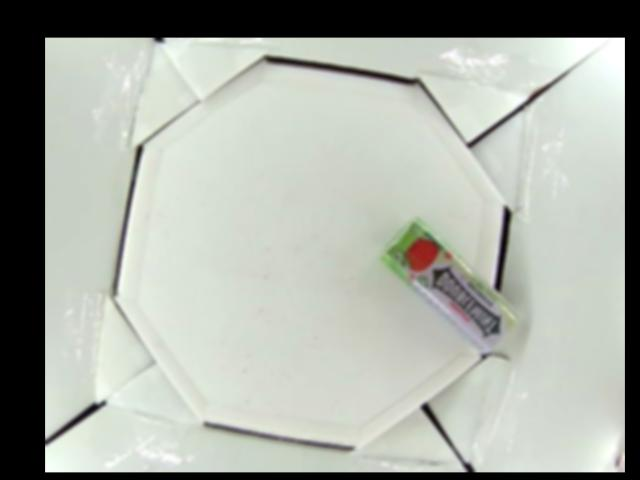Bottle: (381, 216, 514, 354)
